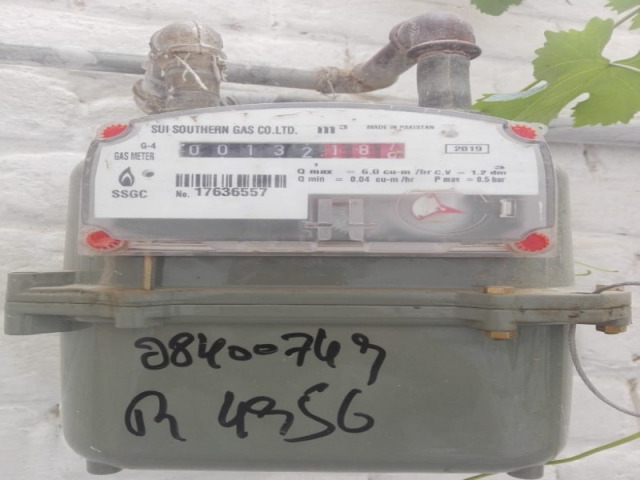ssgc: (174, 135, 408, 165)
